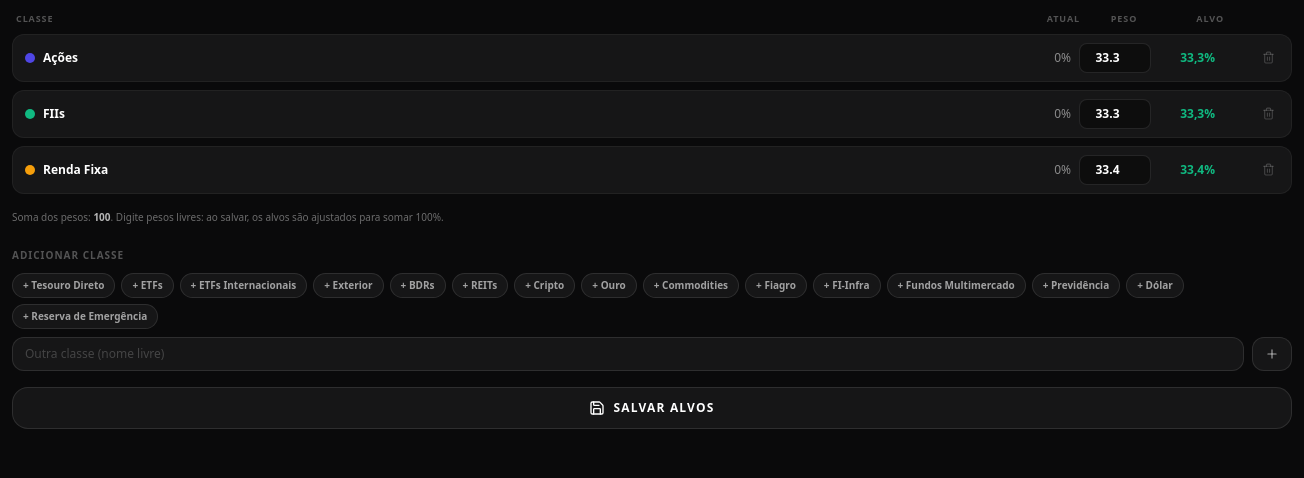
Scenario: TargetsEditor › refuses duplicate class names
This screenshot has width=1304, height=478.
Type "ações" into the field named "Nome da nova classe". click: (628, 354)
box: [12, 336, 1244, 370]
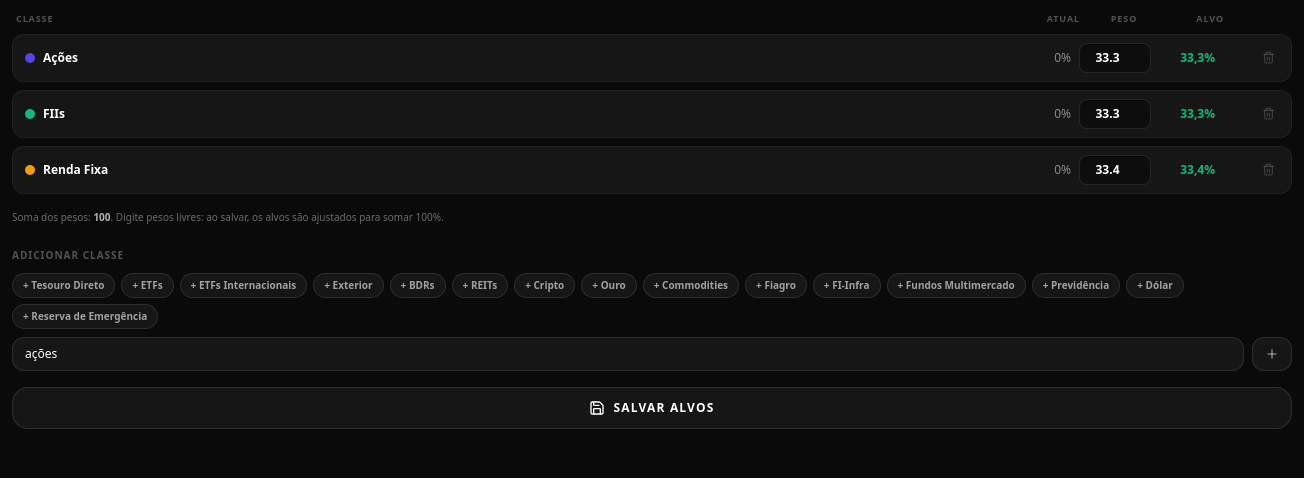
Click the button named "Adicionar classe". click: (1272, 354)
box: [1252, 336, 1292, 370]
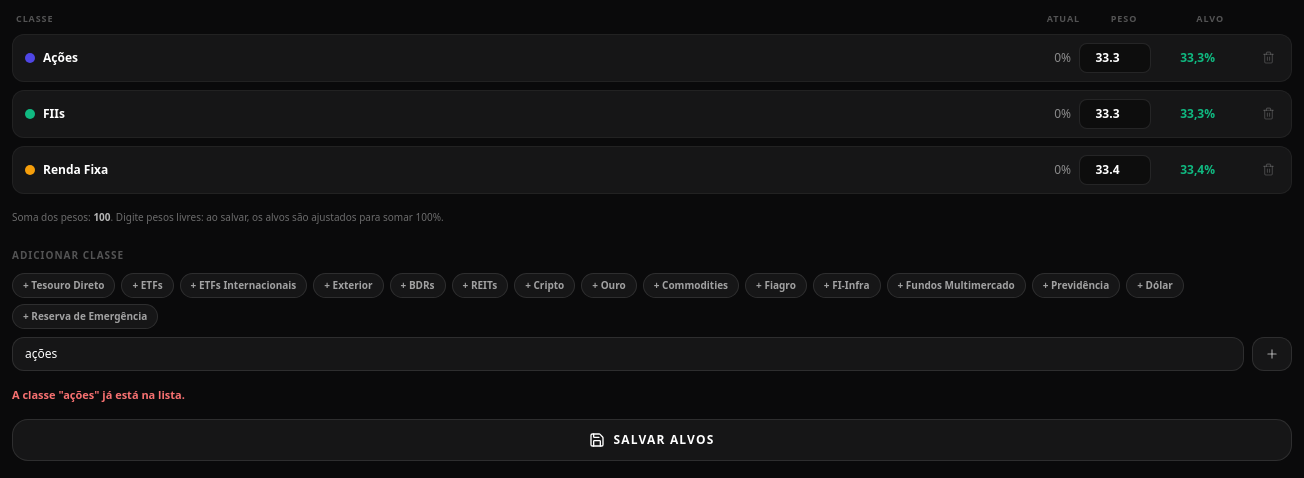
Check: the message shows "já está na lista", box [12, 386, 185, 402]
